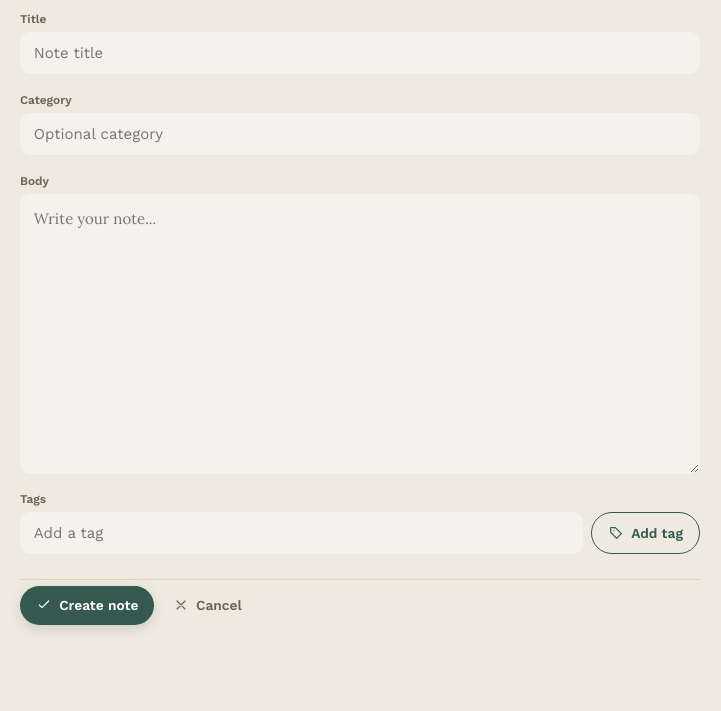
Test: NoteForm validation › clears a previous error once the field becomes valid and resubmitted
Click the button "Create note" at (87, 605), box top-left (20, 586), bottom-right (154, 625)
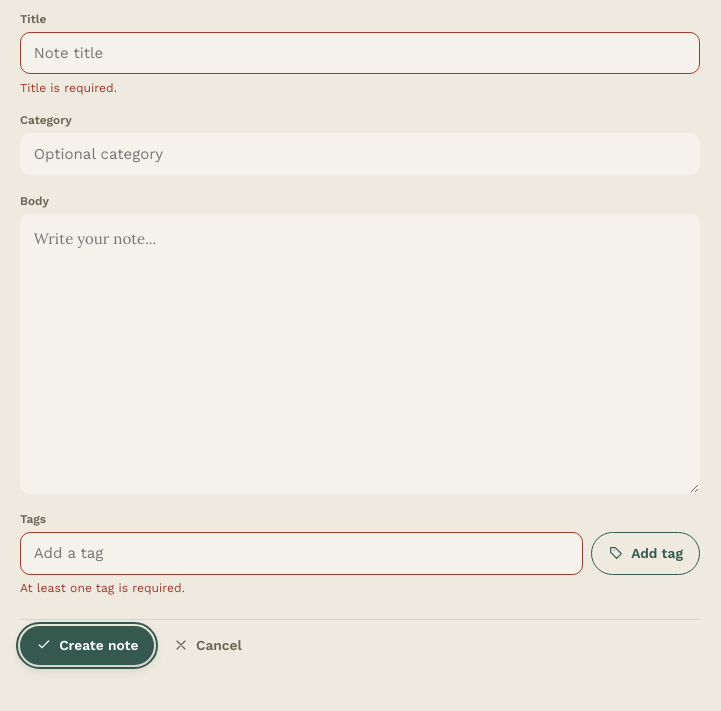
Expected: the text "Title is required." is shown, top-left (20, 80), bottom-right (117, 94)
Type "Groceries" into the field labelled "Title" at (360, 53), box top-left (20, 32), bottom-right (700, 74)
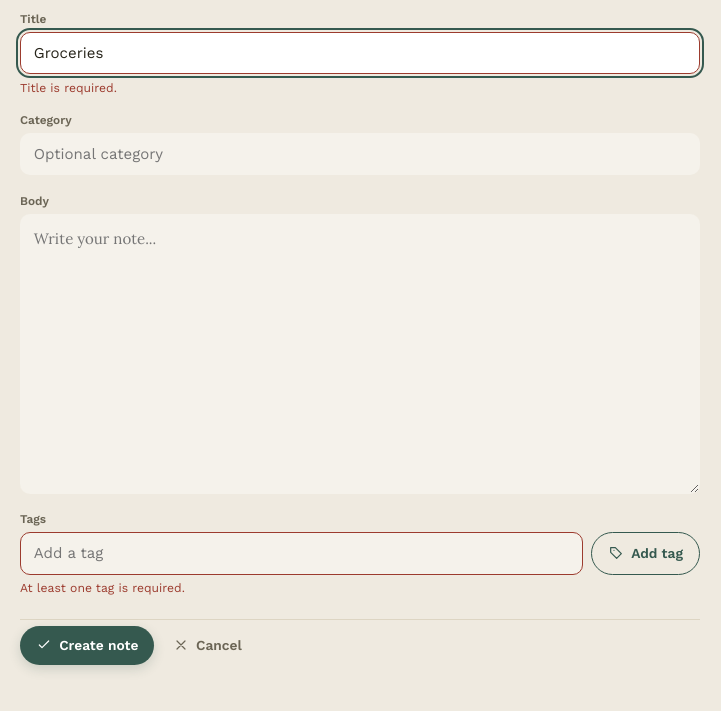
Type "home" into the field labelled "Tags" at (302, 553), box top-left (20, 532), bottom-right (583, 575)
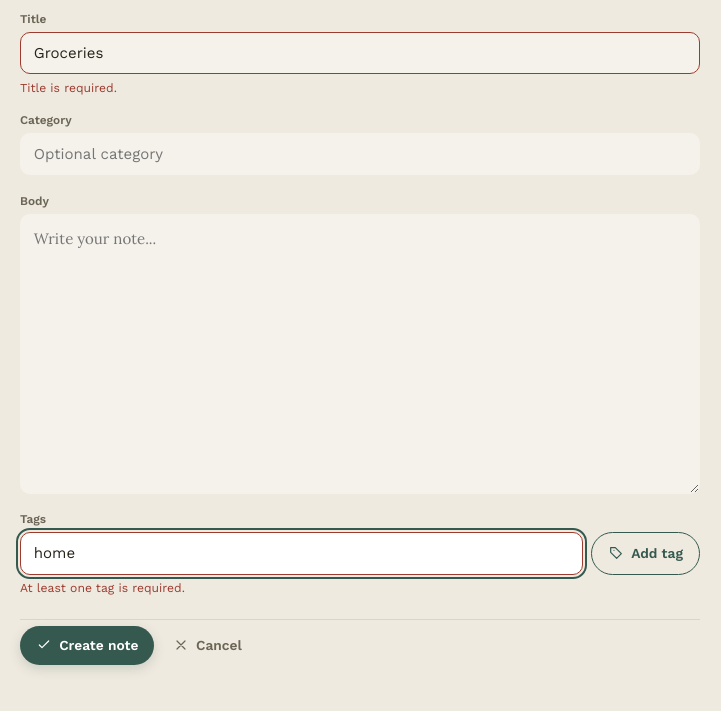
Click the button "Add tag" at (646, 553), box top-left (591, 532), bottom-right (700, 575)
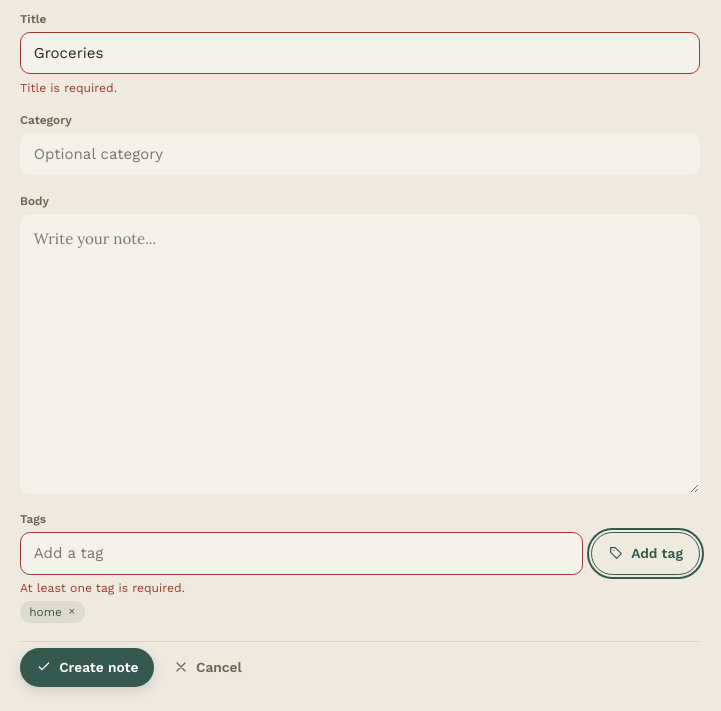
Click the button "Create note" at (87, 667), box top-left (20, 648), bottom-right (154, 687)
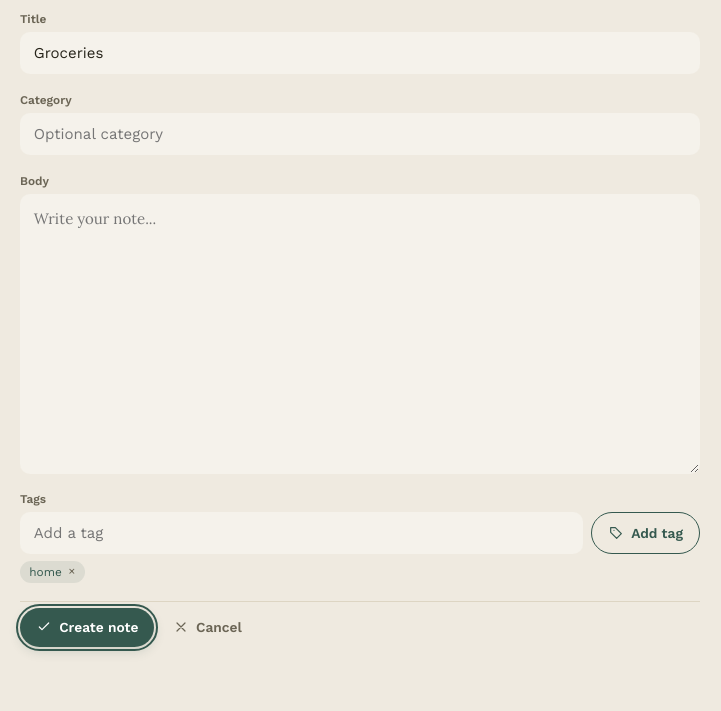
Expected: the text "Title is required" is gone
